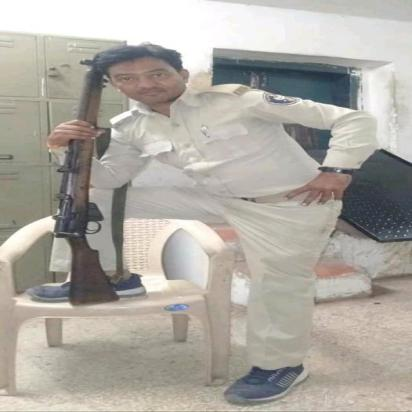Gun: (47, 54, 123, 308)
